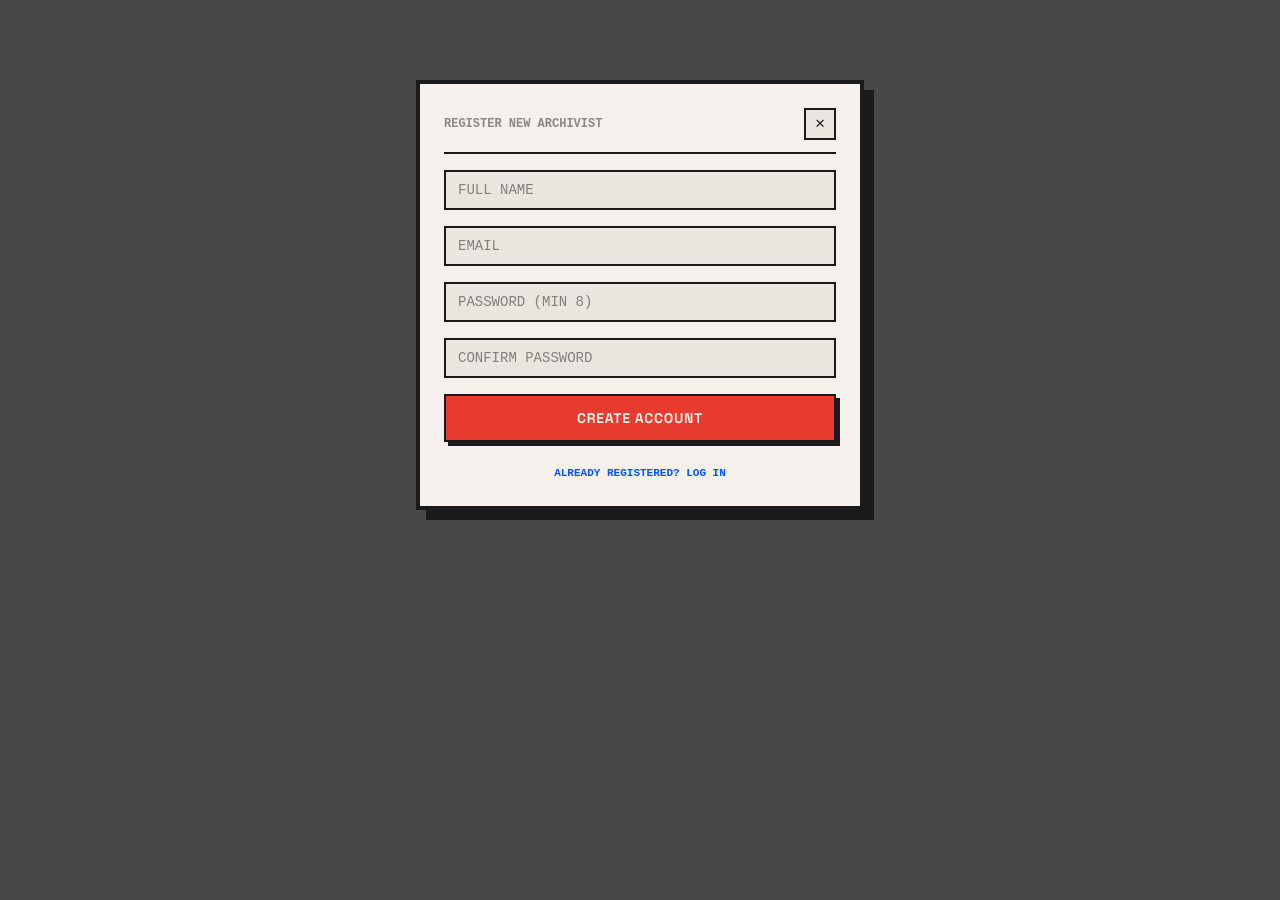
it: AuthModal › renders per-field validation errors instead of the generic message
Type "A B" into the field with placeholder "FULL NAME".
click(640, 190); type("A B")  # box left=444, top=170, right=836, bottom=210
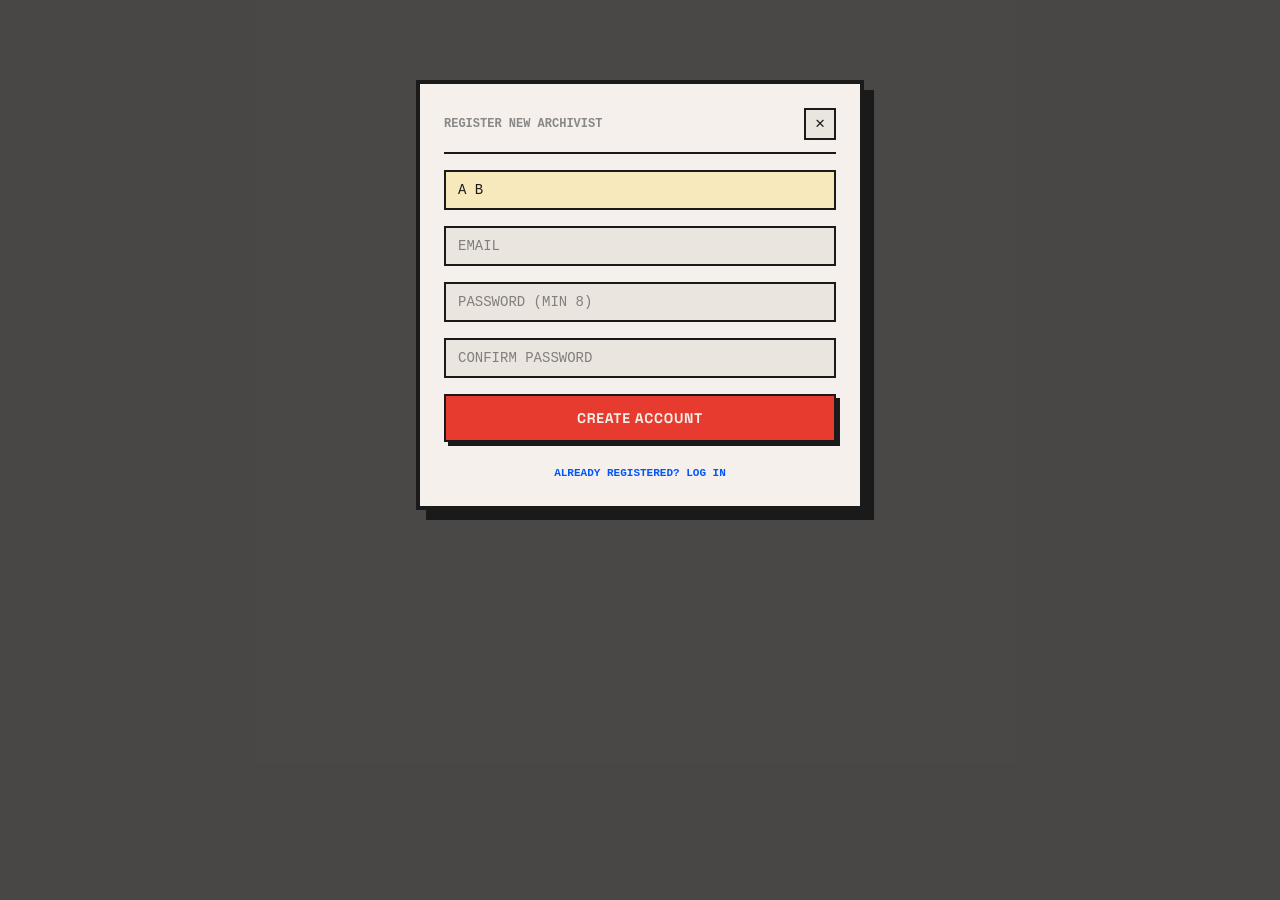
Type "taken@example.com" into the field with placeholder "EMAIL".
click(640, 246); type("taken@example.com")  # box left=444, top=226, right=836, bottom=266
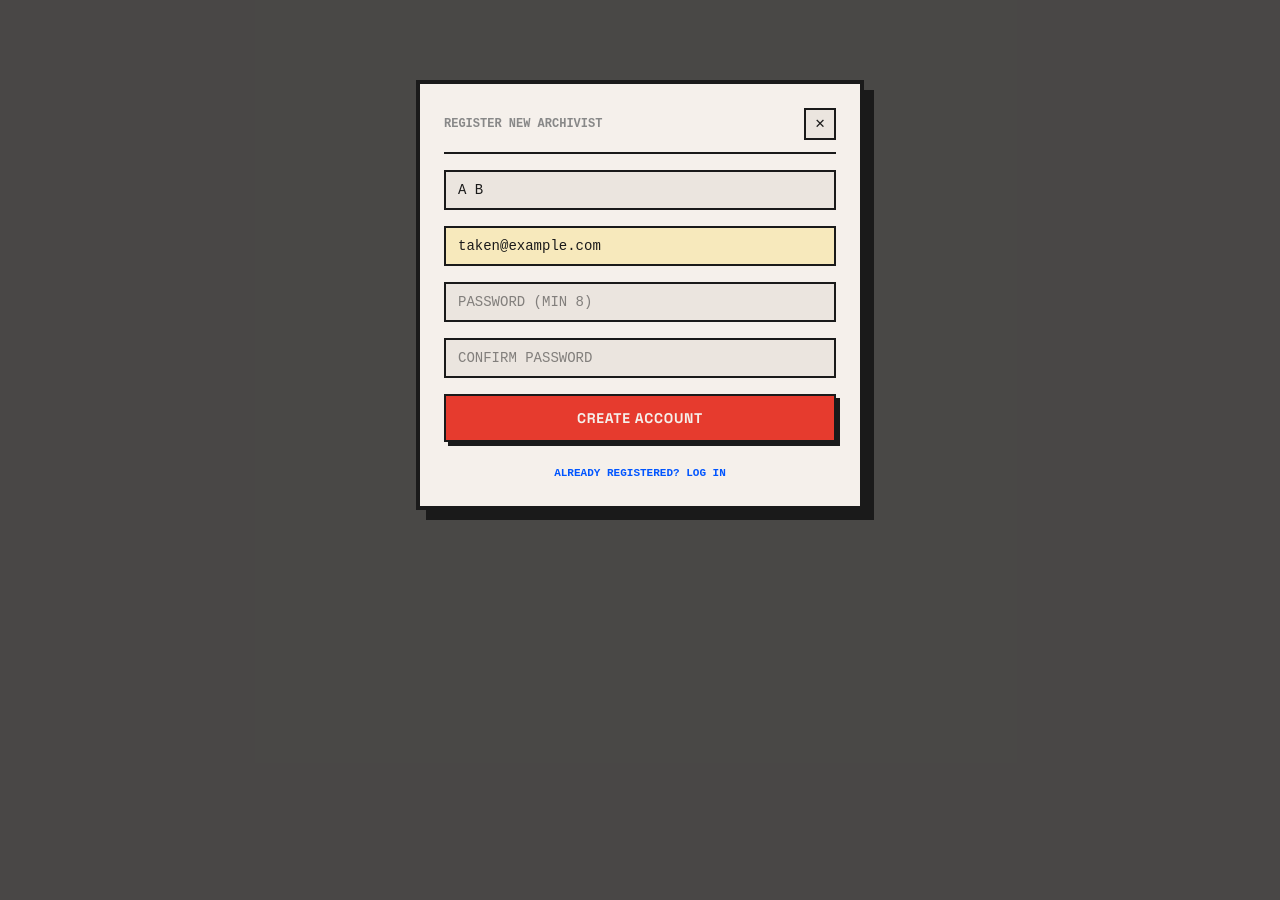
Type "x" into the password field with placeholder "PASSWORD (MIN 8)".
click(640, 302); type("x")  # box left=444, top=282, right=836, bottom=322
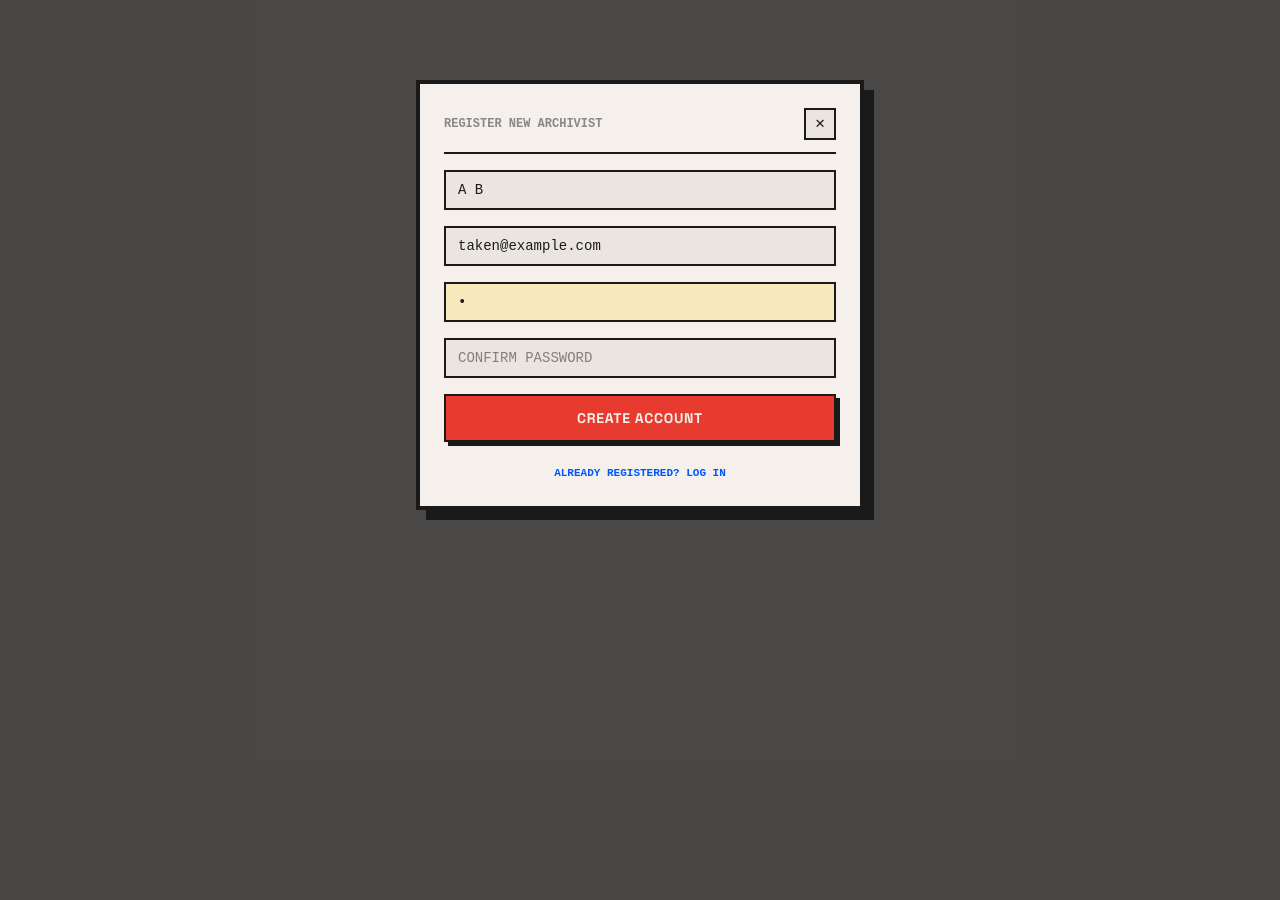
Type "x" into the password field with placeholder "CONFIRM PASSWORD".
click(640, 358); type("x")  # box left=444, top=338, right=836, bottom=378
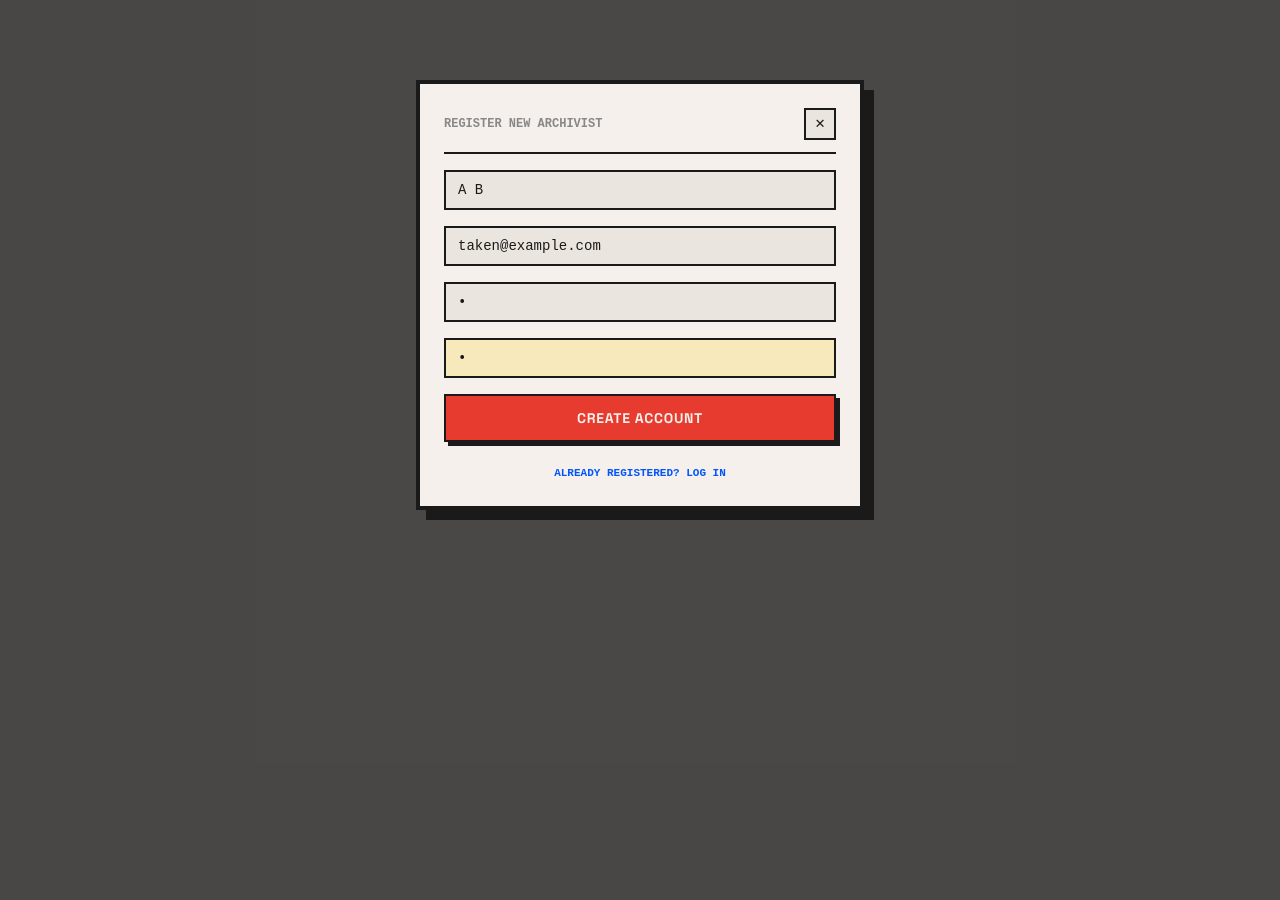
Click the button "CREATE ACCOUNT".
click(640, 418)  # box left=444, top=394, right=836, bottom=442
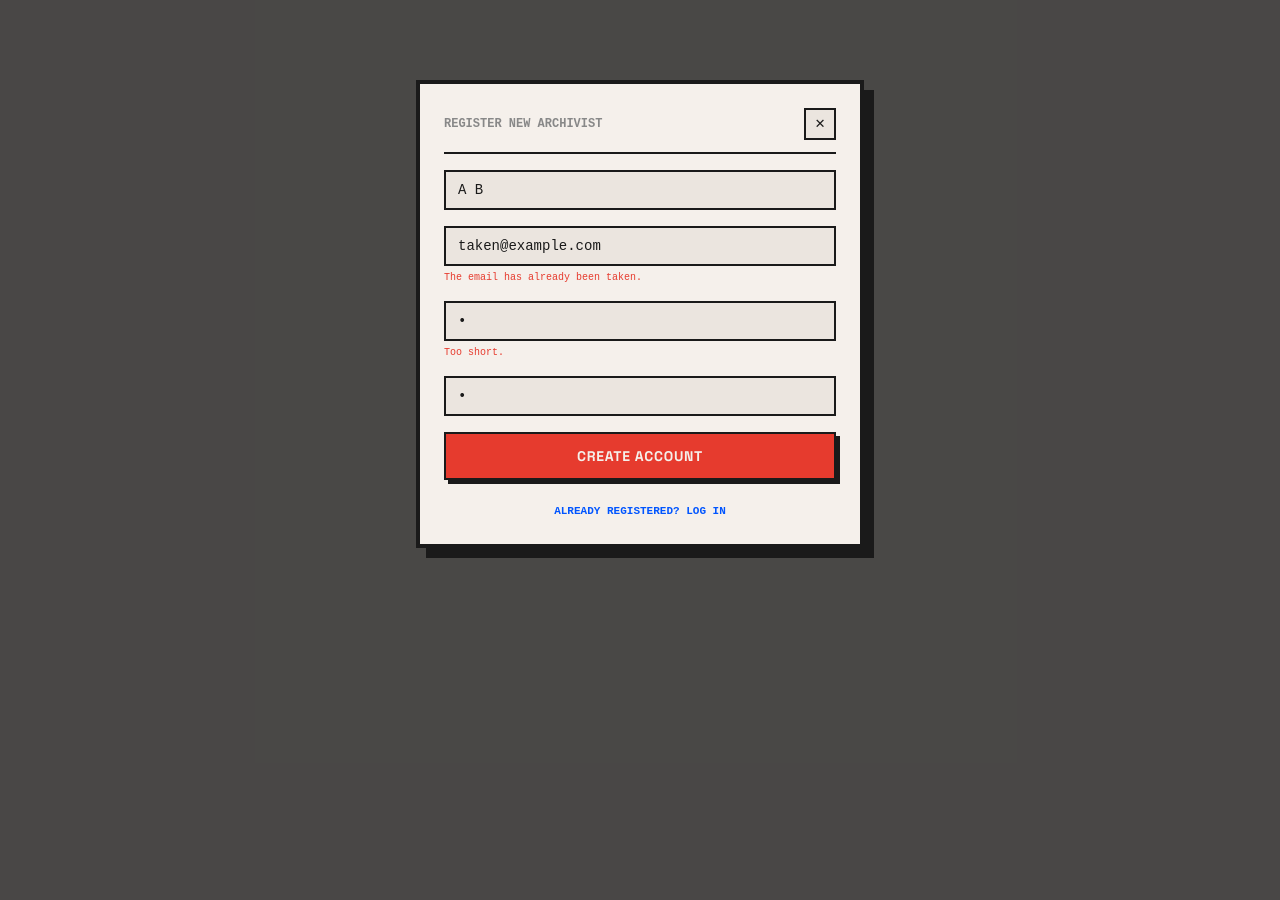
Result: the text "The email has already been taken." is shown at left=444, top=272, right=642, bottom=283
Result: the text "Too short." is shown at left=444, top=347, right=504, bottom=358
